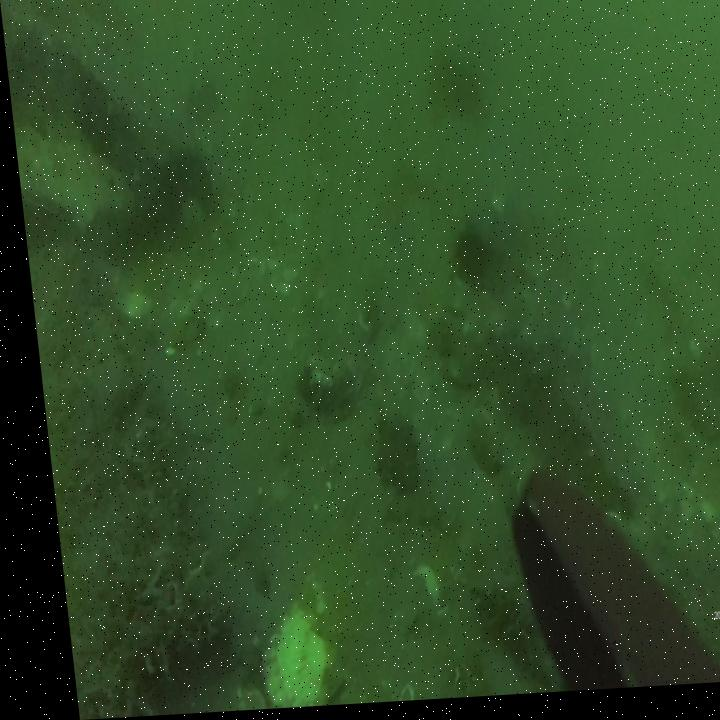echinus: (443, 230, 489, 294)
scallop: (242, 582, 335, 711)
